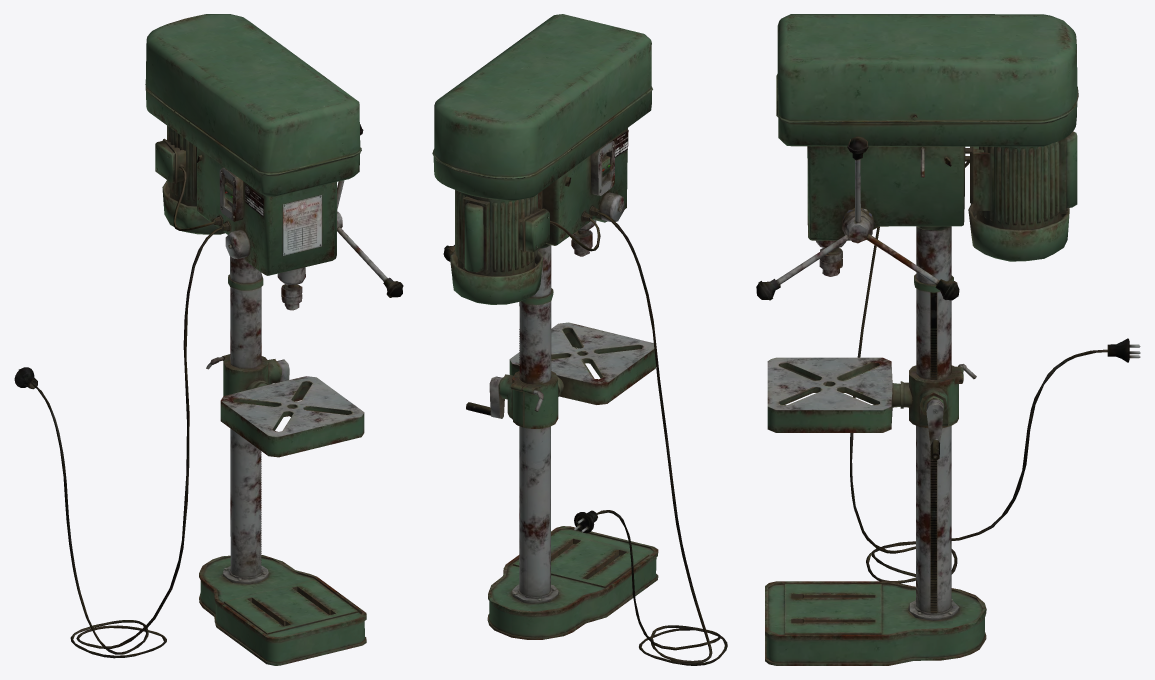
Rendered from old_drill_press.glb.
3 renders of one model, left to right at view 1: azimuth 30°, elevation 25°; view 2: azimuth 150°, elevation 25°; view 3: azimuth 270°, elevation 25°, orthographic. The views are drawn at different scales.
Visible parts, largest first — view 1: old_drill_press, old_drill_press_cable; view 2: old_drill_press, old_drill_press_cable; view 3: old_drill_press, old_drill_press_cable.
Boxes of the visible parts, x1,y1,x2,y2 form: old_drill_press: [145, 14, 403, 665]; old_drill_press_cable: [14, 167, 222, 658]; old_drill_press: [432, 14, 658, 639]; old_drill_press_cable: [550, 211, 727, 665]; old_drill_press: [756, 14, 1078, 665]; old_drill_press_cable: [850, 161, 1140, 583].
Bounding box in the file's own units: 0.5272 × 1.05 × 0.6081.
Materials: 1 (1 with a texture image).
